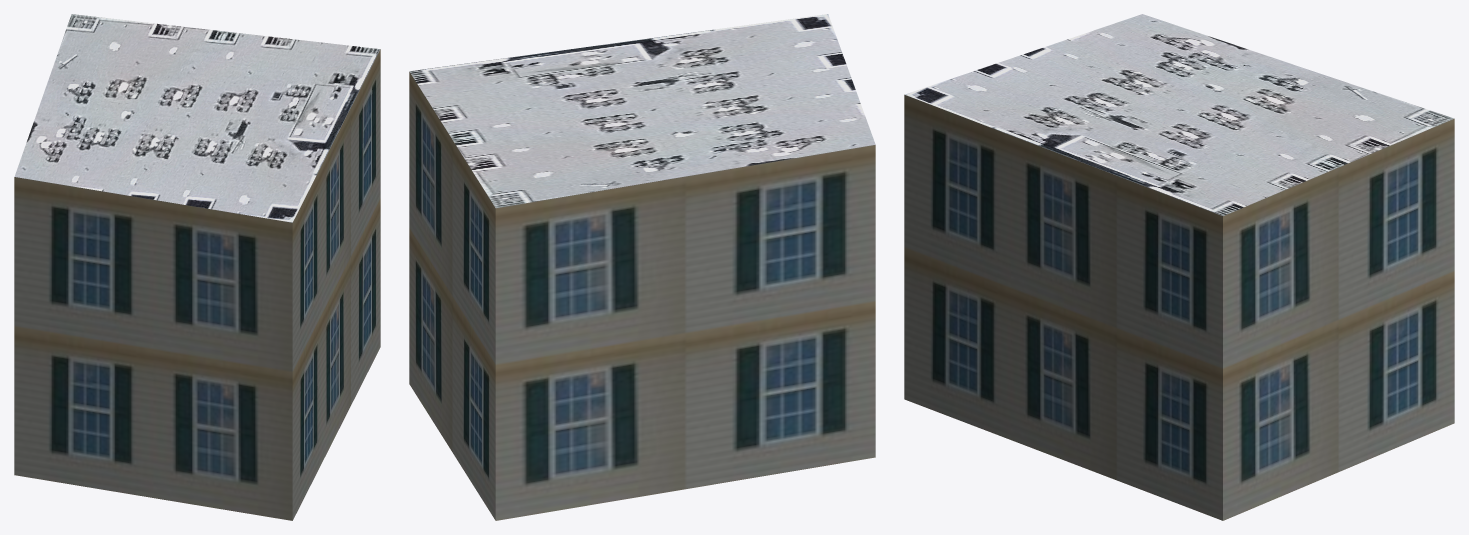
Rendered from ResTex__4727.fbx.
3 renders of one model, left to right at view 1: azimuth 30°, elevation 25°; view 2: azimuth 150°, elevation 25°; view 3: azimuth 270°, elevation 25°, orthographic. The views are drawn at different scales.
Visible parts, largest first — view 1: CityEngineMaterial_7_m, CityEngineMaterial_4_m; view 2: CityEngineMaterial_7_m, CityEngineMaterial_4_m; view 3: CityEngineMaterial_7_m, CityEngineMaterial_4_m.
Boxes of the visible parts, bbox=[...] form: CityEngineMaterial_7_m: bbox=[14, 49, 380, 520]; CityEngineMaterial_4_m: bbox=[14, 14, 380, 222]; CityEngineMaterial_7_m: bbox=[409, 72, 875, 520]; CityEngineMaterial_4_m: bbox=[409, 14, 875, 207]; CityEngineMaterial_7_m: bbox=[904, 94, 1454, 520]; CityEngineMaterial_4_m: bbox=[905, 14, 1453, 215].
Size of the model in its own units: 8.53 by 6 by 9.81.
2 materials, 2 textured.
